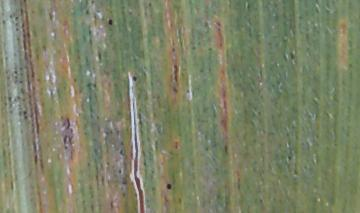tarspot: (172, 63, 179, 82), (62, 133, 69, 150), (64, 117, 70, 131), (164, 182, 173, 191), (289, 50, 296, 61), (170, 84, 178, 93), (107, 18, 114, 26), (147, 1, 154, 9), (131, 74, 137, 83), (170, 47, 177, 54), (286, 154, 292, 162)
